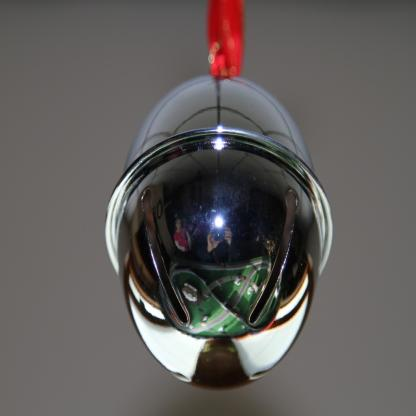Helmet: (105, 0, 330, 390)
